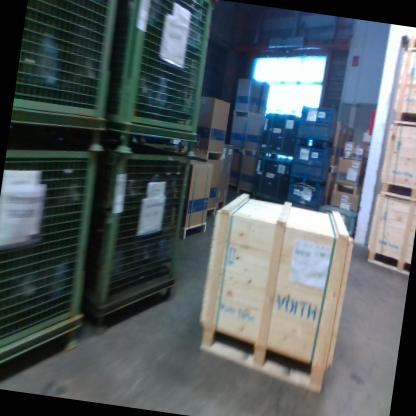pallet: (182, 143, 224, 171), (178, 218, 208, 245), (330, 178, 366, 197), (195, 204, 215, 223), (229, 104, 251, 118), (239, 147, 260, 161), (233, 186, 252, 200), (227, 143, 244, 158), (325, 163, 338, 179), (215, 197, 227, 212), (226, 179, 237, 193)
stillage: (0, 123, 118, 398), (75, 132, 208, 360), (8, 0, 131, 163), (99, 0, 222, 158), (294, 99, 342, 148), (288, 143, 331, 190), (283, 178, 327, 215)
